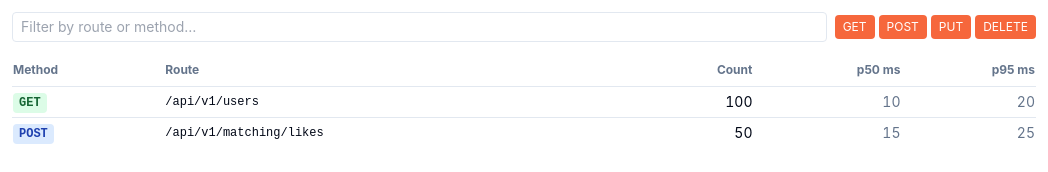
RequestVolumeTable › filters rows by toggling a method pill off
Click the button "GET".
click(855, 27)  # box [835,15,875,39]
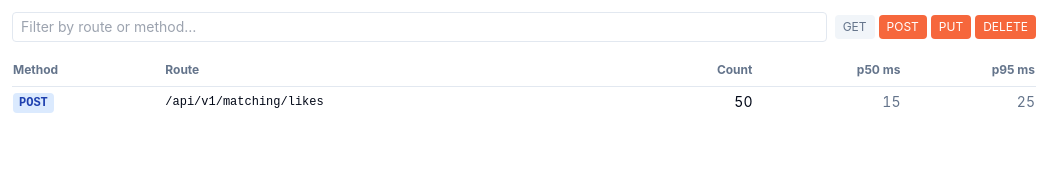
Expected: the text "/api/v1/matching/likes" is shown, [164,86,635,117]
Expected: the text "/api/v1/users" is gone
